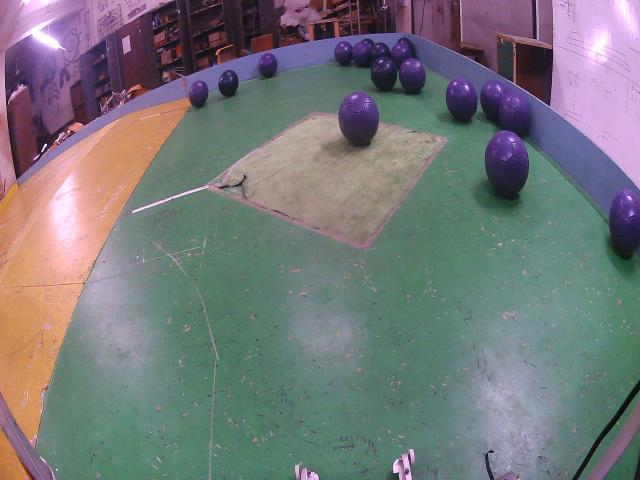jambhalya: (485, 130, 529, 197), (609, 188, 640, 257), (339, 92, 379, 145), (446, 78, 478, 122), (499, 92, 530, 137), (480, 80, 506, 122), (399, 58, 426, 93), (391, 42, 412, 70), (189, 80, 209, 108), (259, 53, 278, 78), (352, 42, 370, 68), (334, 42, 352, 66)
kaalyya: (371, 57, 398, 92), (219, 70, 239, 97), (370, 42, 390, 62), (399, 37, 418, 58), (364, 38, 374, 47)
